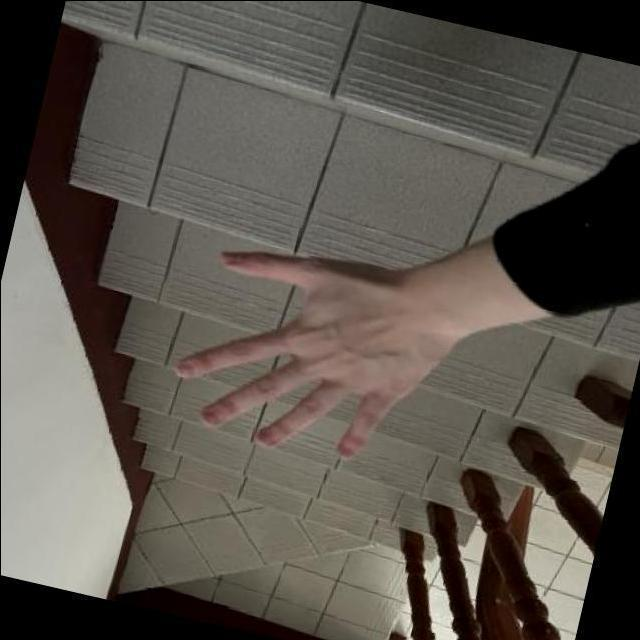hand: (146, 198, 487, 506)
